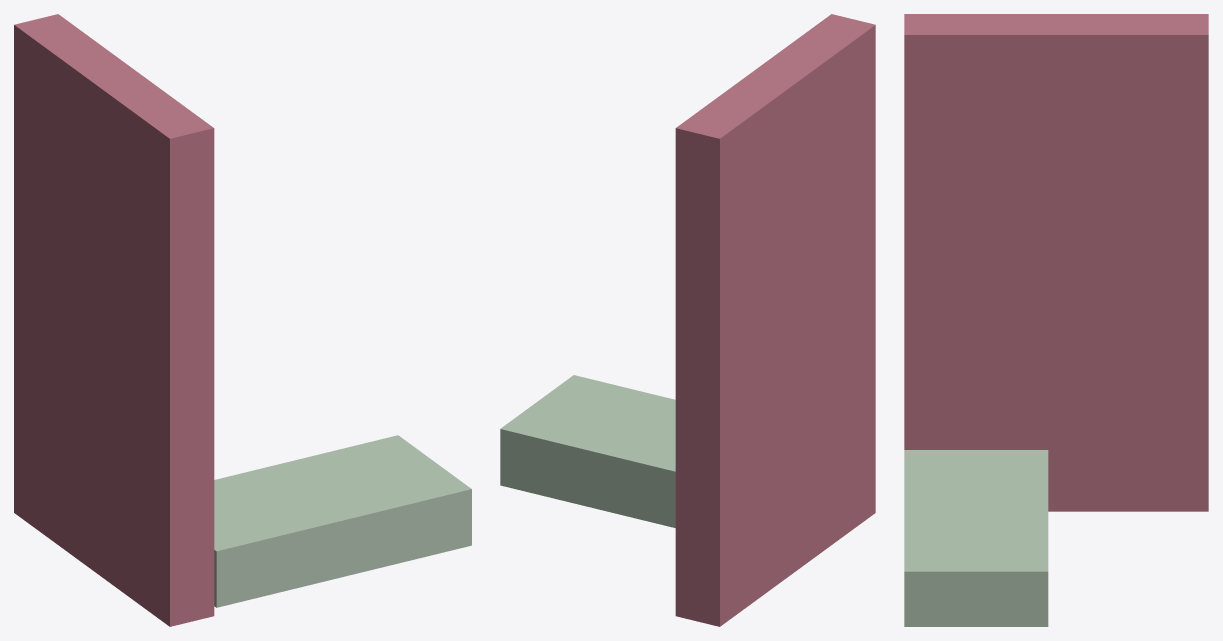
3 views of the same model, side by side, from view 1: azimuth 30°, elevation 25°; view 2: azimuth 150°, elevation 25°; view 3: azimuth 270°, elevation 25° (orthographic). The views are drawn at different scales.
Parts seen in each view (by area): view 1: world; view 2: world; view 3: world.
Boxes of the visible parts, x1,y1,x2,y2 form: world: (14,14,471,626); world: (500,14,875,626); world: (904,14,1208,626).
Size of the model in its own units: 6.15 by 9.5 by 5.5.
